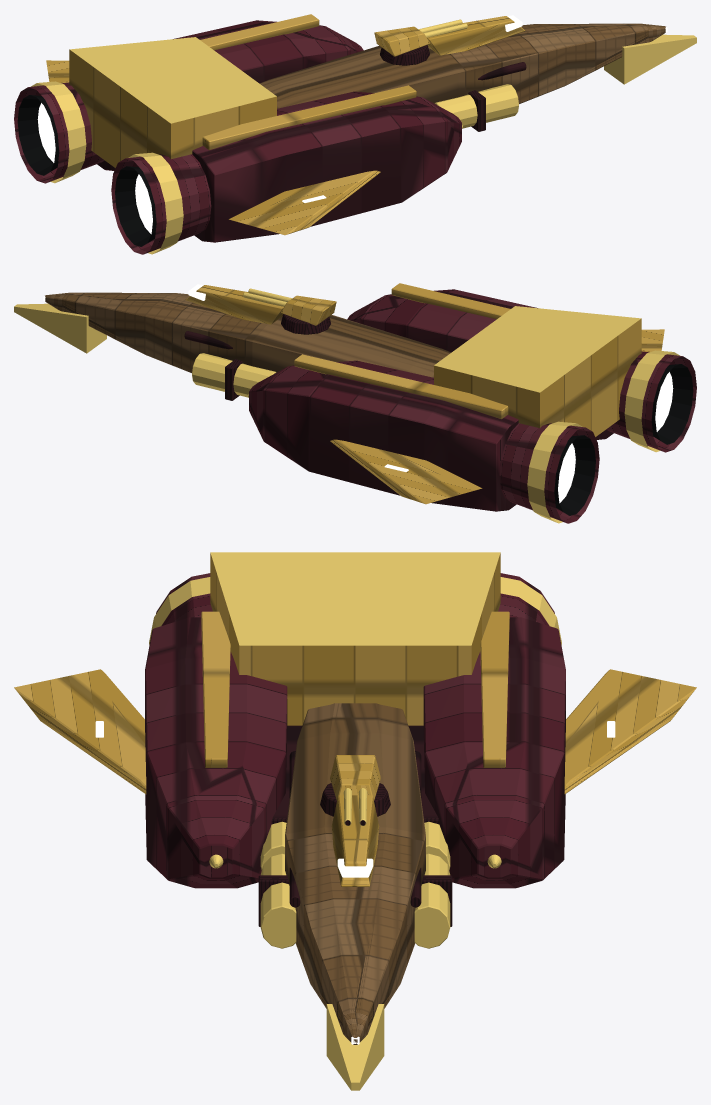
Rendered from corvette.glb.
3 renders of one model, top to bottom at view 1: azimuth 30°, elevation 25°; view 2: azimuth 150°, elevation 25°; view 3: azimuth 270°, elevation 25°, orthographic. The views are drawn at different scales.
Parts seen in each view (by area): view 1: corvette; view 2: corvette; view 3: corvette.
Boxes of the visible parts, x1,y1,x2,y2 form: corvette: [14, 14, 696, 254]; corvette: [14, 283, 696, 523]; corvette: [14, 552, 696, 1090].
Size of the model in its own units: 20 by 3.86 by 13.56.
Materials: 1 (1 with a texture image).
